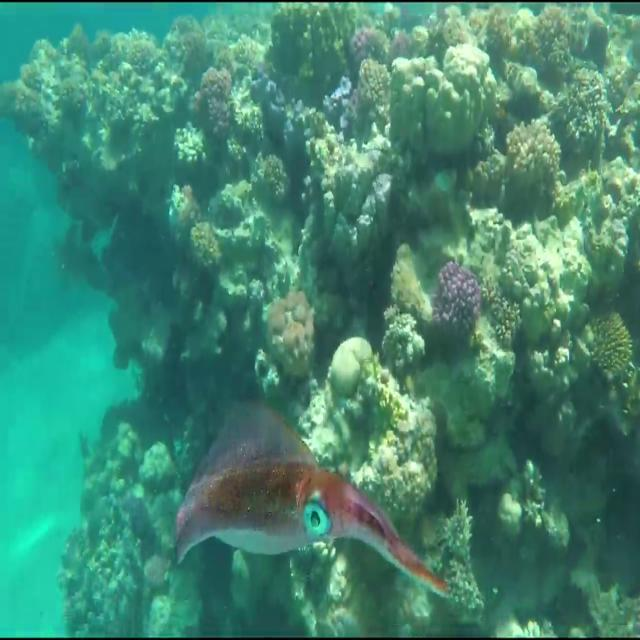squid: (176, 405, 454, 602)
